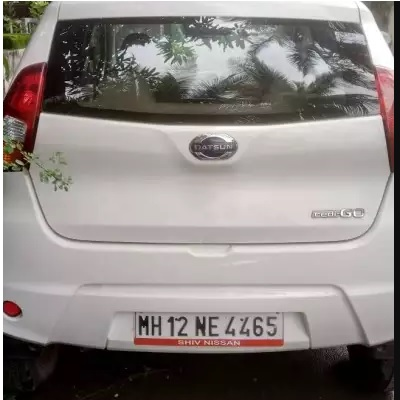licenseplate: (133, 308, 287, 350)
